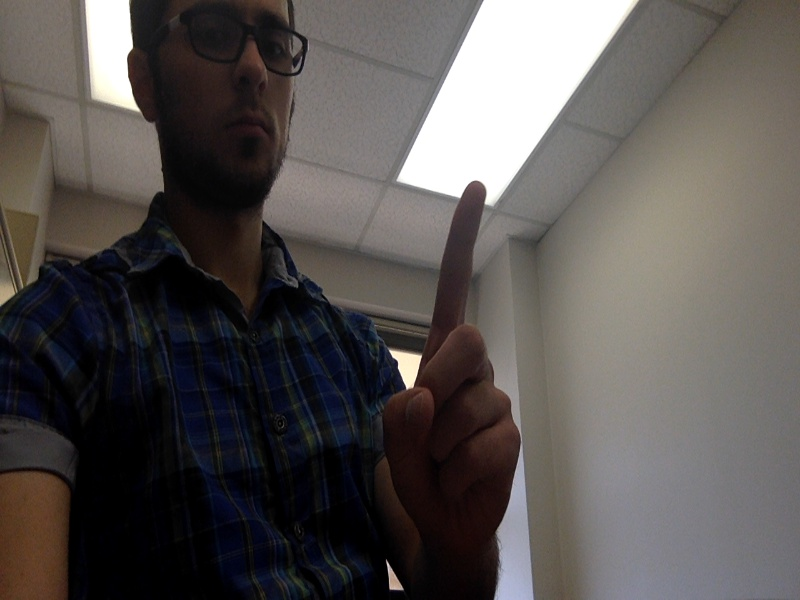1-hand: (384, 184, 521, 532)
